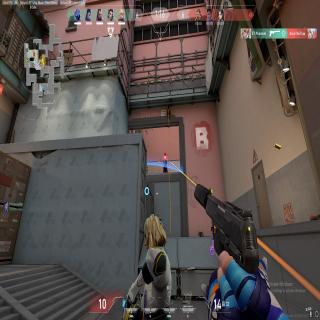ENEMY-BODY: (163, 152, 168, 173)
ENEMY-HEAD: (164, 153, 167, 158)
